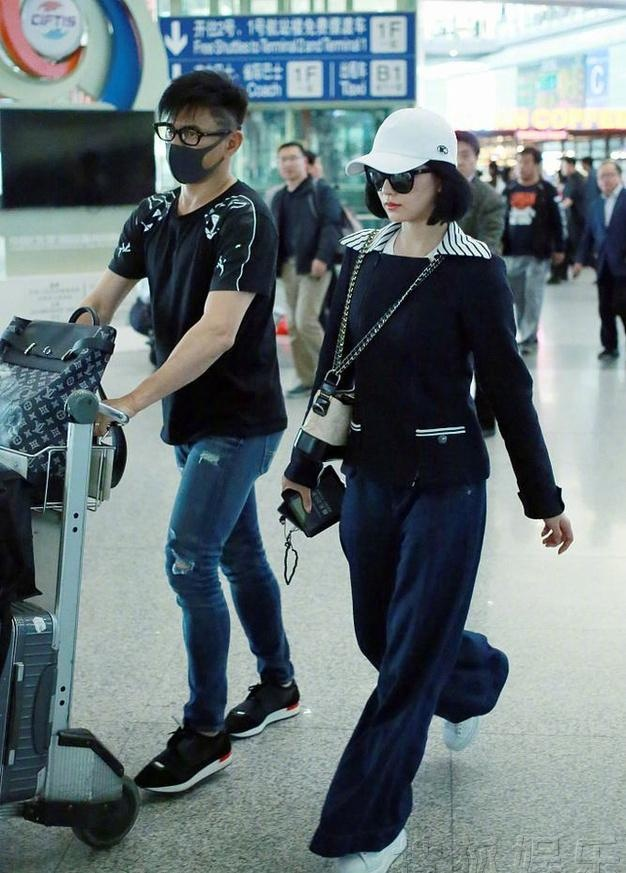Mask: (163, 115, 230, 182)
